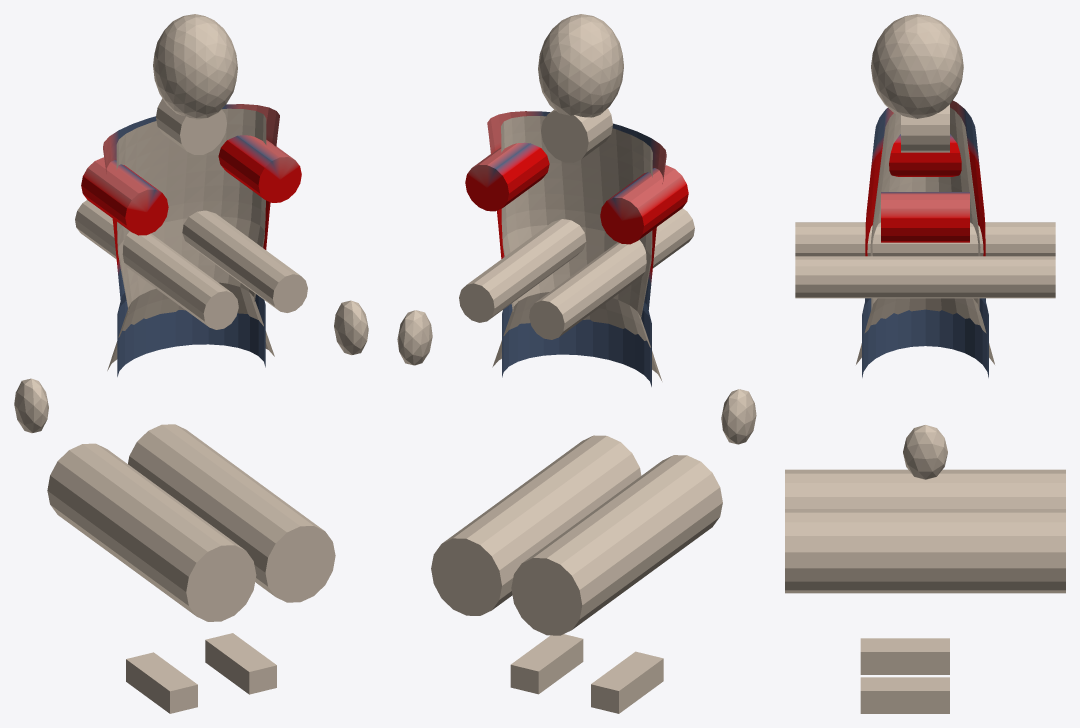
File: tryon_tight_2547b4b375.glb
3 views of the same model, side by side, from view 1: azimuth 30°, elevation 25°; view 2: azimuth 150°, elevation 25°; view 3: azimuth 270°, elevation 25° (orthographic).
Visible parts, largest first — view 1: body_mesh, garment_mesh; view 2: body_mesh, garment_mesh; view 3: body_mesh, garment_mesh.
Boxes of the visible parts, x1,y1,x2,y2 form: body_mesh: (14,14,368,713); garment_mesh: (81,104,301,376); body_mesh: (397,14,756,713); garment_mesh: (465,111,688,386); body_mesh: (785,14,1065,713); garment_mesh: (862,100,988,377).
Size of the model in its own units: 0.9982 by 1.82 by 0.6921.
